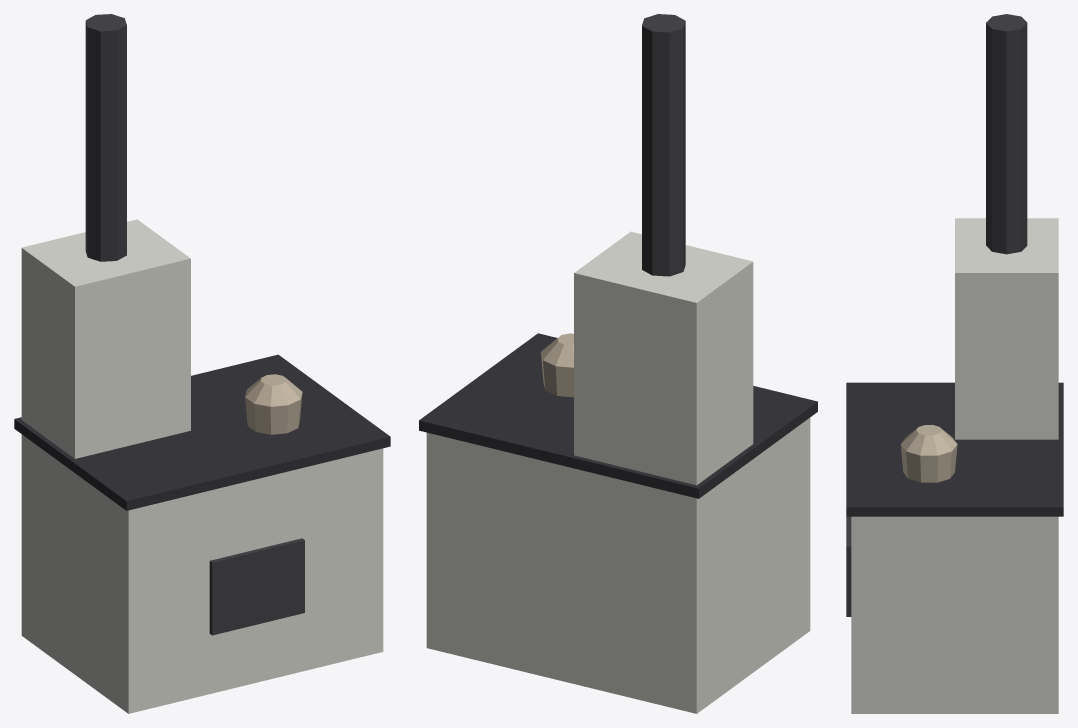
The model's file is Interior_Stove.obj.
3 renders of one model, left to right at view 1: azimuth 30°, elevation 25°; view 2: azimuth 150°, elevation 25°; view 3: azimuth 270°, elevation 25°, orthographic. The views are drawn at different scales.
Visible parts, largest first — view 1: Interior_Stove; view 2: Interior_Stove; view 3: Interior_Stove.
Boxes of the visible parts, bbox=[...] form: Interior_Stove: bbox=[14, 14, 390, 713]; Interior_Stove: bbox=[419, 14, 817, 713]; Interior_Stove: bbox=[846, 14, 1063, 713].
Bounding box in the file's own units: 1.14 × 2.55 × 0.84.
